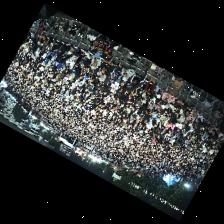person: (130, 66, 149, 86), (130, 81, 147, 101), (65, 49, 80, 65), (69, 60, 83, 77), (144, 76, 155, 96), (101, 59, 115, 73), (91, 50, 102, 67), (63, 45, 77, 58), (88, 63, 100, 76), (156, 102, 168, 114), (121, 67, 133, 79), (161, 92, 174, 103), (82, 50, 92, 64), (49, 40, 61, 51), (57, 43, 69, 54), (110, 78, 120, 91), (52, 58, 64, 68), (174, 99, 183, 112), (124, 82, 133, 95), (183, 102, 192, 115), (195, 111, 203, 125), (99, 70, 110, 80), (137, 102, 147, 113), (56, 60, 65, 72), (176, 112, 184, 125), (95, 83, 105, 93), (55, 69, 65, 79), (165, 109, 174, 120), (48, 51, 57, 62), (114, 64, 121, 78), (99, 76, 109, 85), (120, 77, 129, 87), (110, 67, 116, 82), (46, 49, 56, 58), (202, 118, 210, 129), (166, 121, 174, 132), (166, 101, 174, 112), (191, 106, 199, 117), (186, 113, 193, 125), (147, 106, 156, 115), (155, 86, 163, 96), (148, 97, 155, 108), (155, 97, 162, 108), (128, 89, 134, 101), (37, 34, 45, 43), (140, 90, 146, 102), (208, 122, 216, 131), (160, 113, 166, 124), (176, 108, 183, 117), (108, 39, 117, 46), (211, 127, 219, 134), (199, 125, 204, 135), (181, 118, 187, 126), (32, 33, 39, 39)
